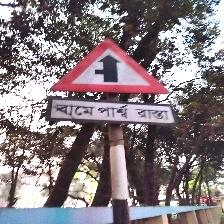Side-road-left: (46, 37, 176, 128)
